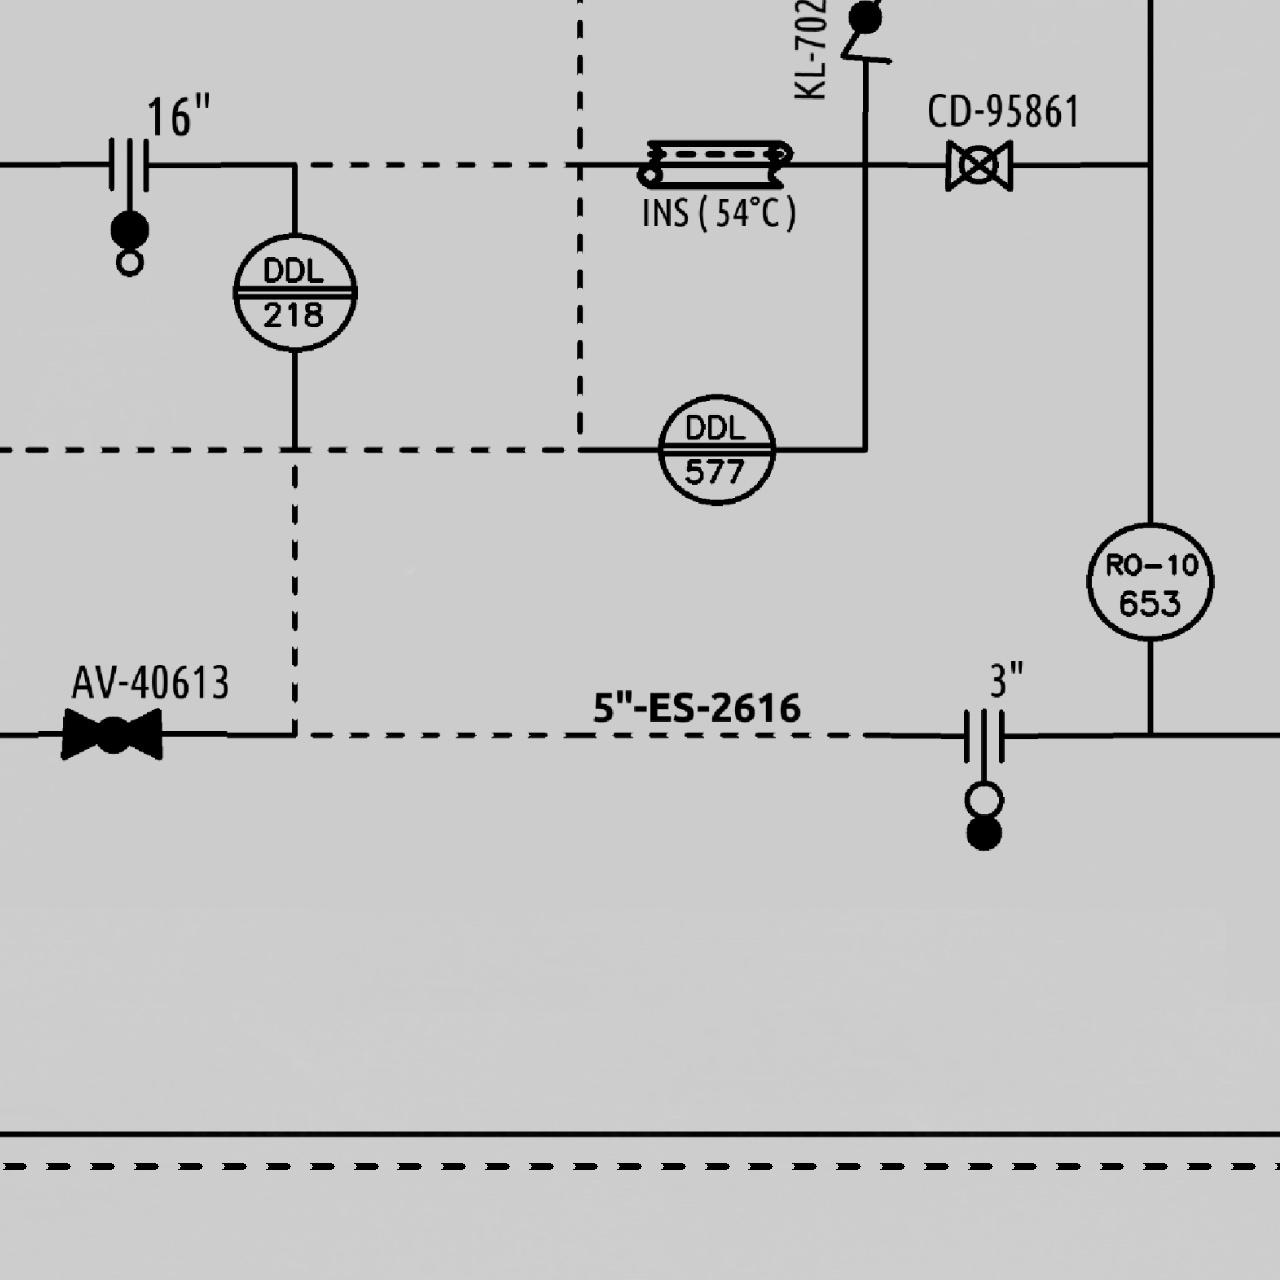Control-Panel: (1082, 513, 1217, 648), (224, 225, 356, 358), (652, 386, 779, 511)
